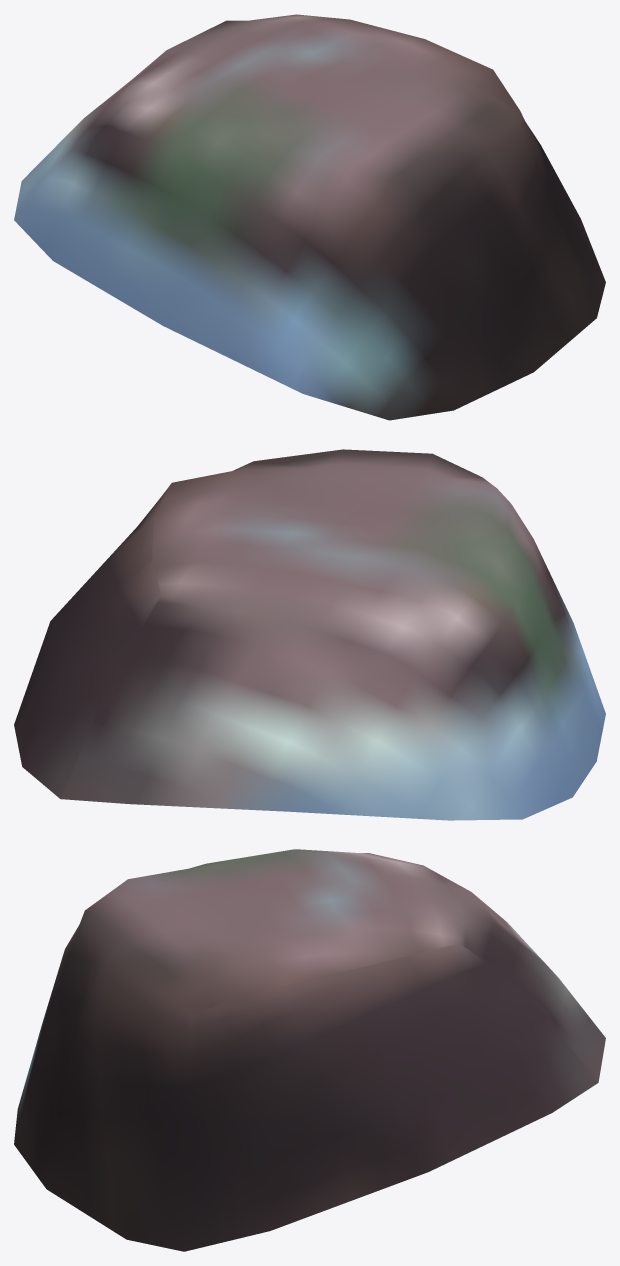
The model's file is Beach_Rocks_4.glb.
3 renders of one model, top to bottom at view 1: azimuth 30°, elevation 25°; view 2: azimuth 150°, elevation 25°; view 3: azimuth 270°, elevation 25°, orthographic. The views are drawn at different scales.
Visible parts, largest first — view 1: Object_2.033; view 2: Object_2.033; view 3: Object_2.033.
Part boxes in pixels (<box>): Object_2.033: <box>14,14,605,420</box>; Object_2.033: <box>14,449,605,820</box>; Object_2.033: <box>14,849,605,1251</box>.
Bounding box in the file's own units: 3.43 × 1.63 × 3.5.
1 material, 1 textured.
